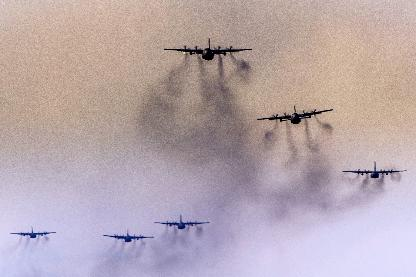Be200: (164, 37, 252, 60), (257, 106, 333, 124), (342, 160, 406, 177), (153, 214, 209, 229), (102, 229, 154, 241), (9, 226, 55, 237)
